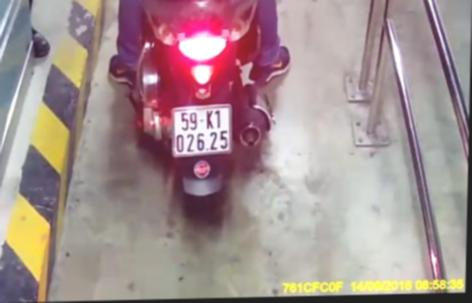License_Plate: (161, 100, 238, 162)
